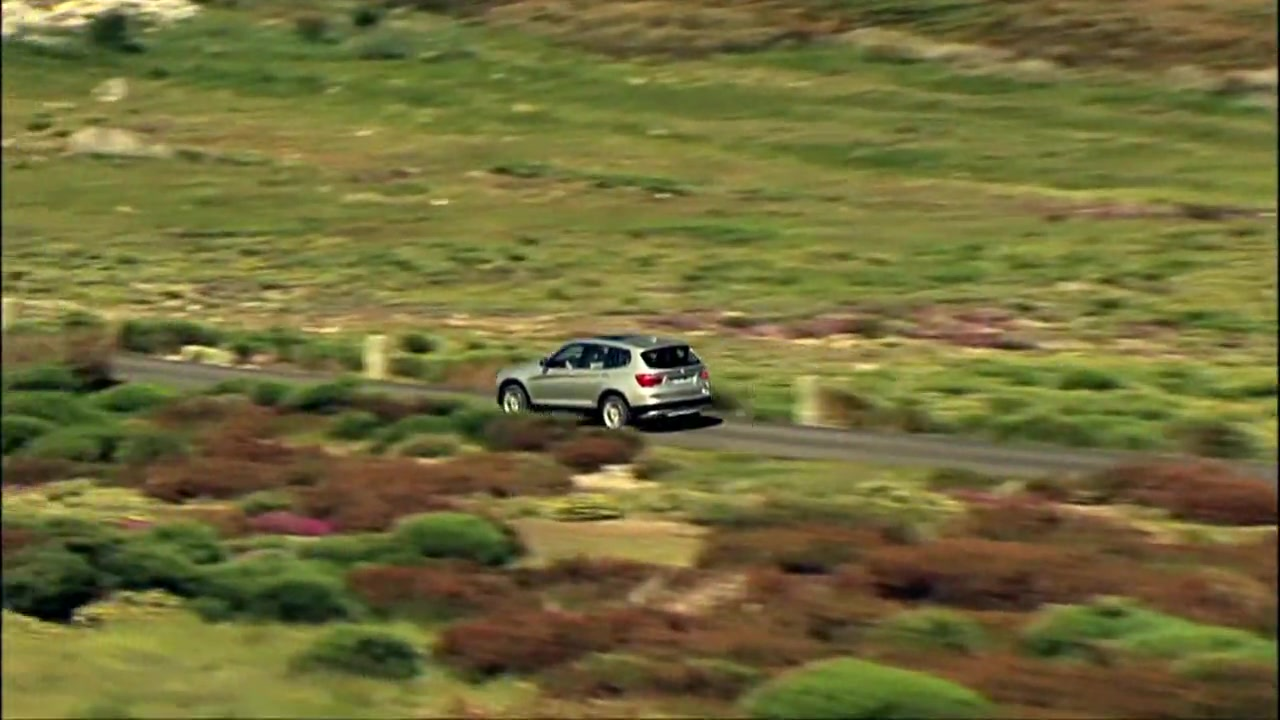car: (493, 333, 717, 434)
